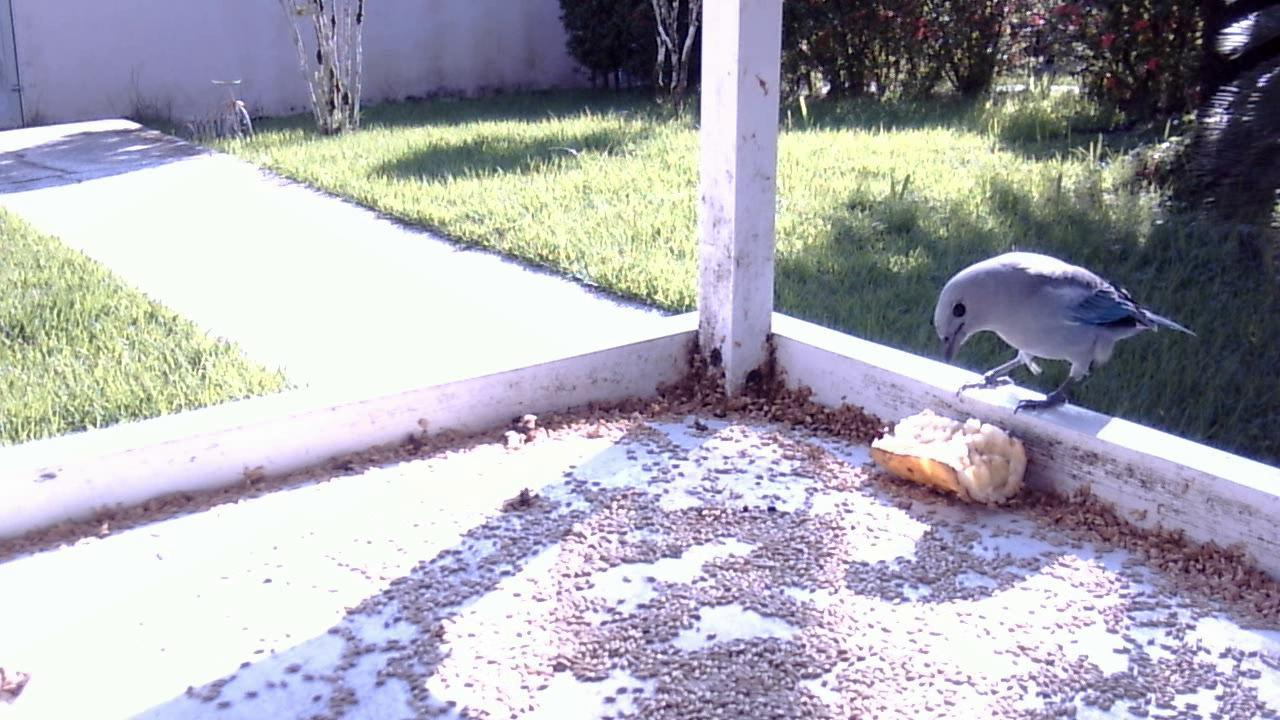sanhaco_da_amazonia: (931, 247, 1202, 426)
